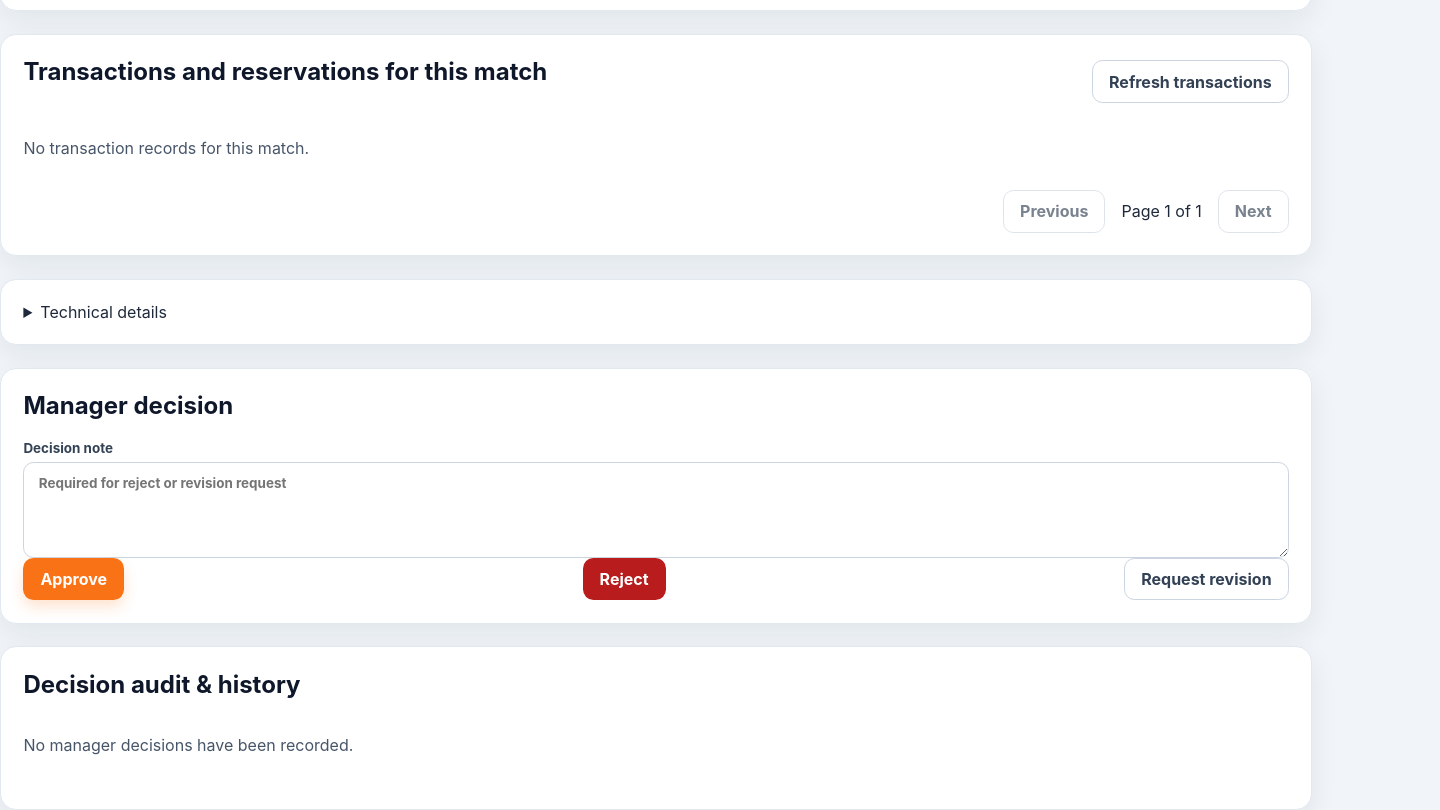
Scenario: manager workflow decisions › submits an approval and shows the reservation outcome
The image size is (1440, 810).
(page scrolled)
Click the button "Approve" at x=74, y=579, box [23,558,124,600]
(page scrolled)
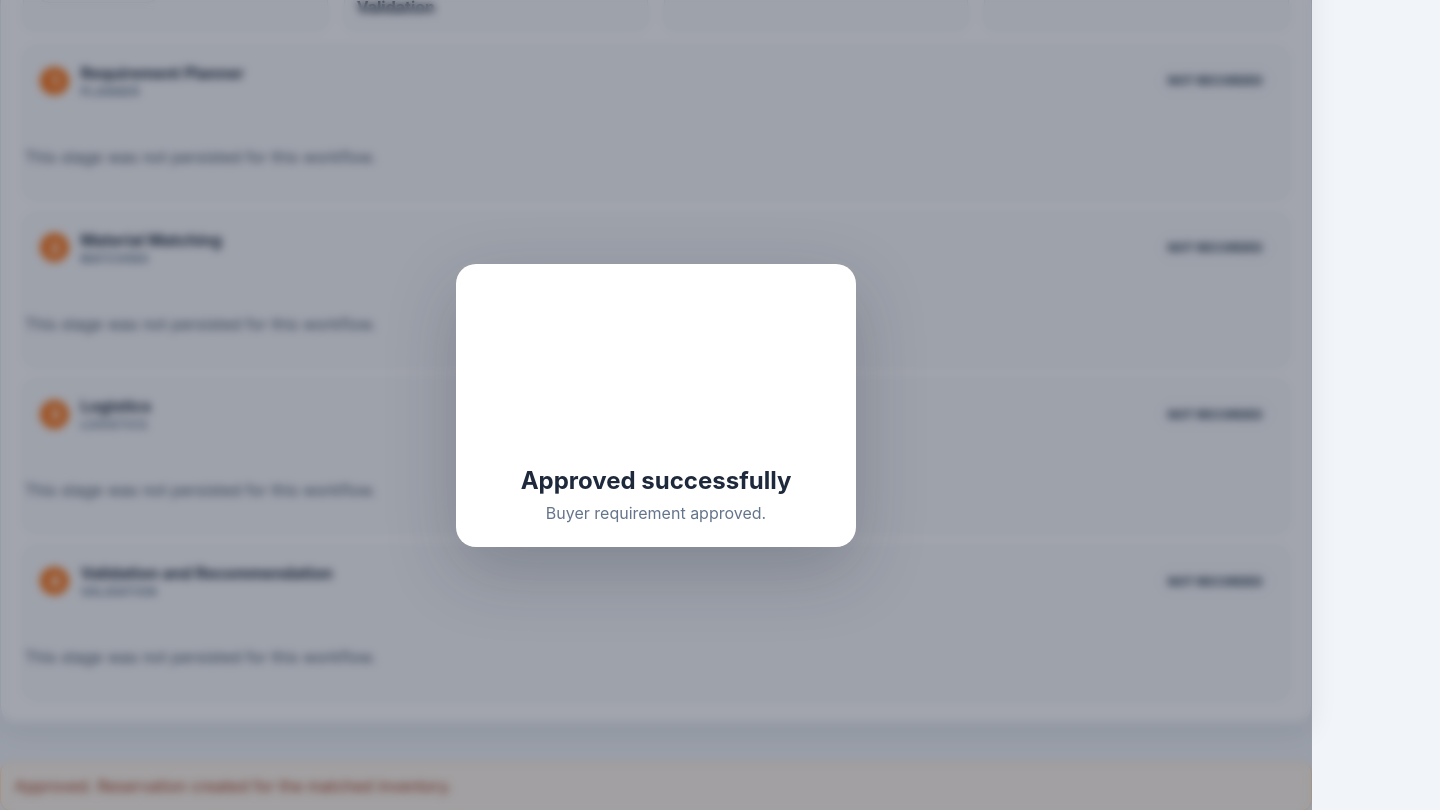
Result: the text "Approved. Reservation created for the matched inventory." is shown at [0,762,1312,809]
Result: the dialog shows "Approved successfully" at [521,466,791,495]
Result: the dialog shows "Buyer requirement approved." at [546,503,766,523]
